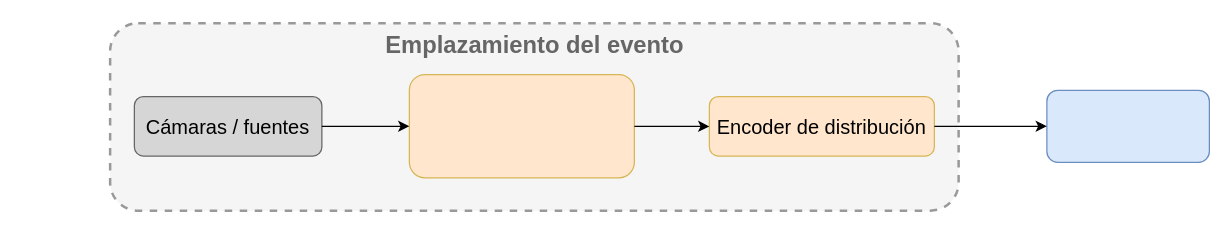
Some shapes in this 1231 by 233 pixel diagram are drawn without their labels. Here are the shapes that lost their labels. From the top down, the centre of each, then its label:
(521,125): Mezclador hardware
(1127,125): Audiencia
